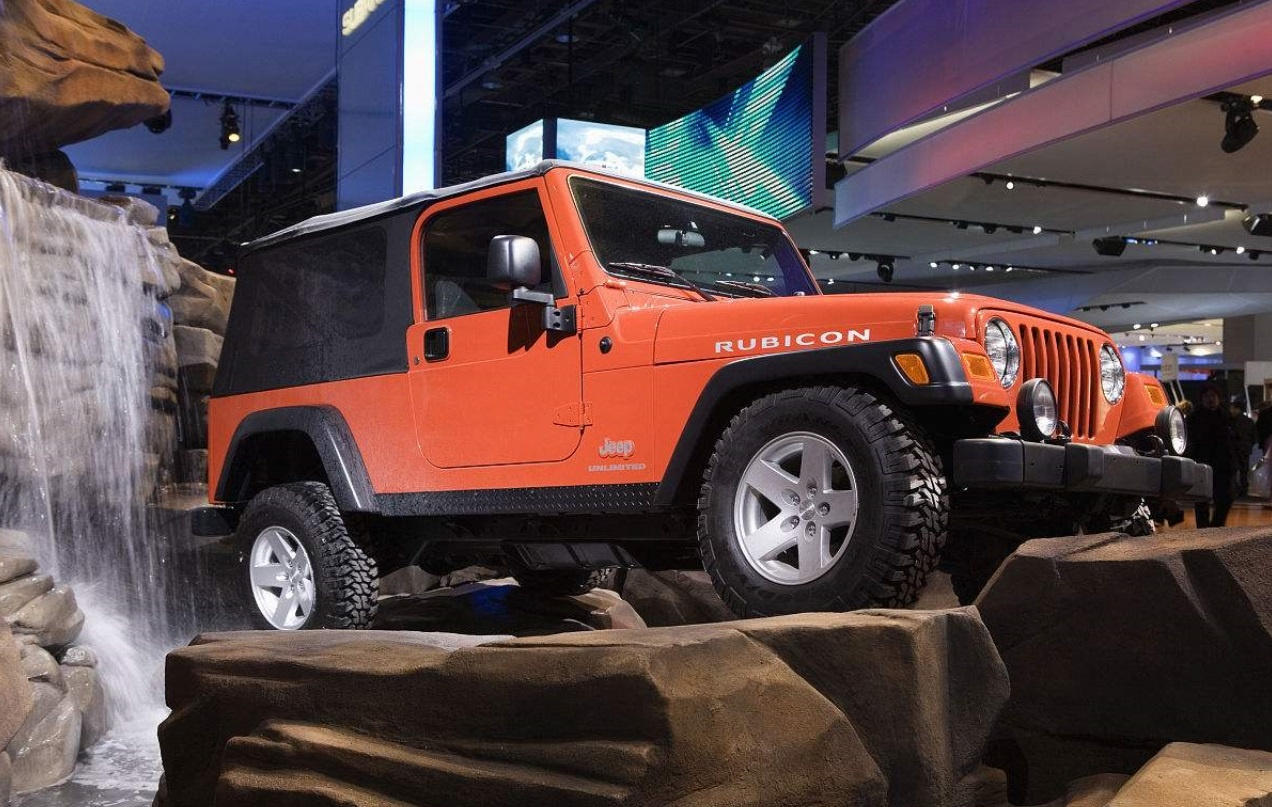jeep: (183, 150, 1184, 644)
